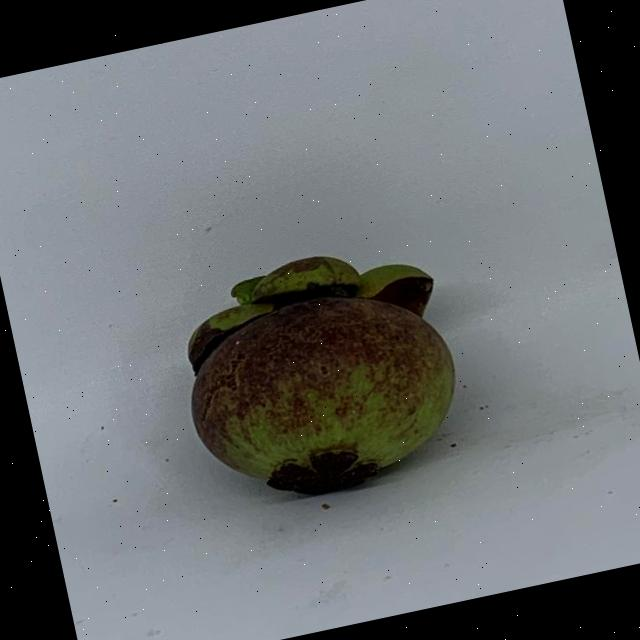mangosteen: (154, 224, 482, 528)
